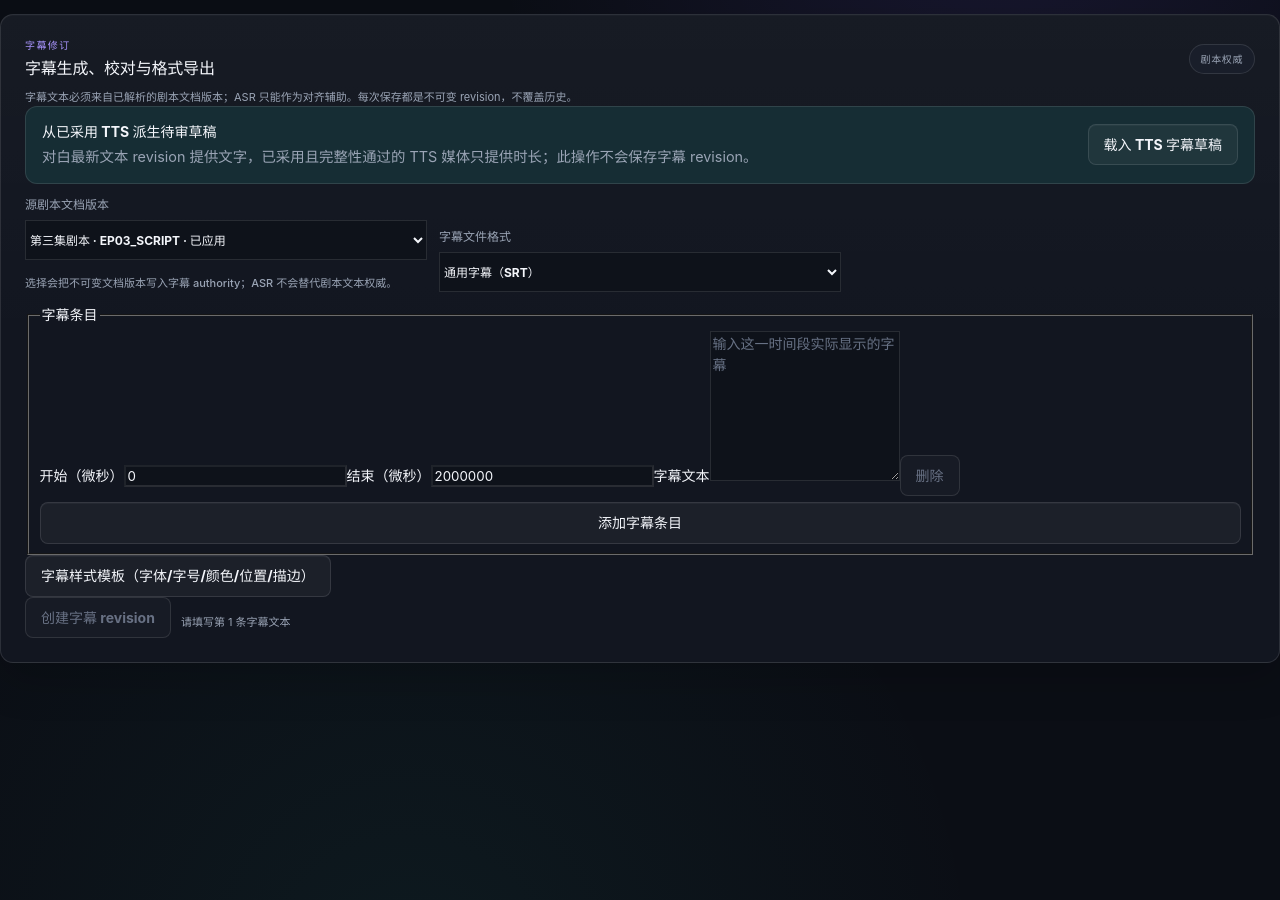
it: SubtitleRevisionPanel draft protection (FE-02) › blocks the shared save with a reason instead of leaving silently
The image size is (1280, 900).
In the text box named "字幕 1 文本": (804, 406) [710, 331, 900, 481], type "你好"
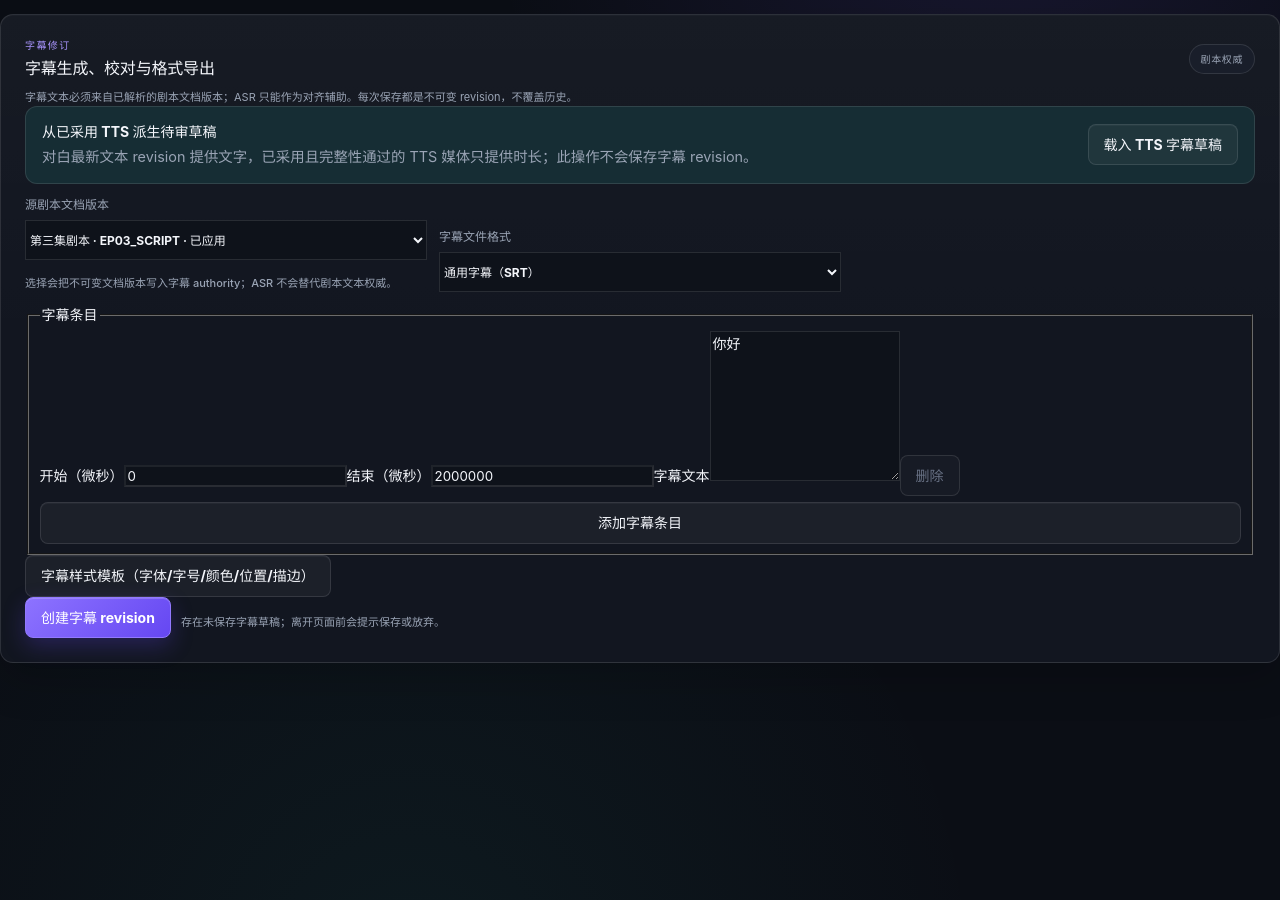
Replace the text in the number field named "字幕 1 结束（微秒）" with "0": (542, 476) [430, 465, 654, 487]
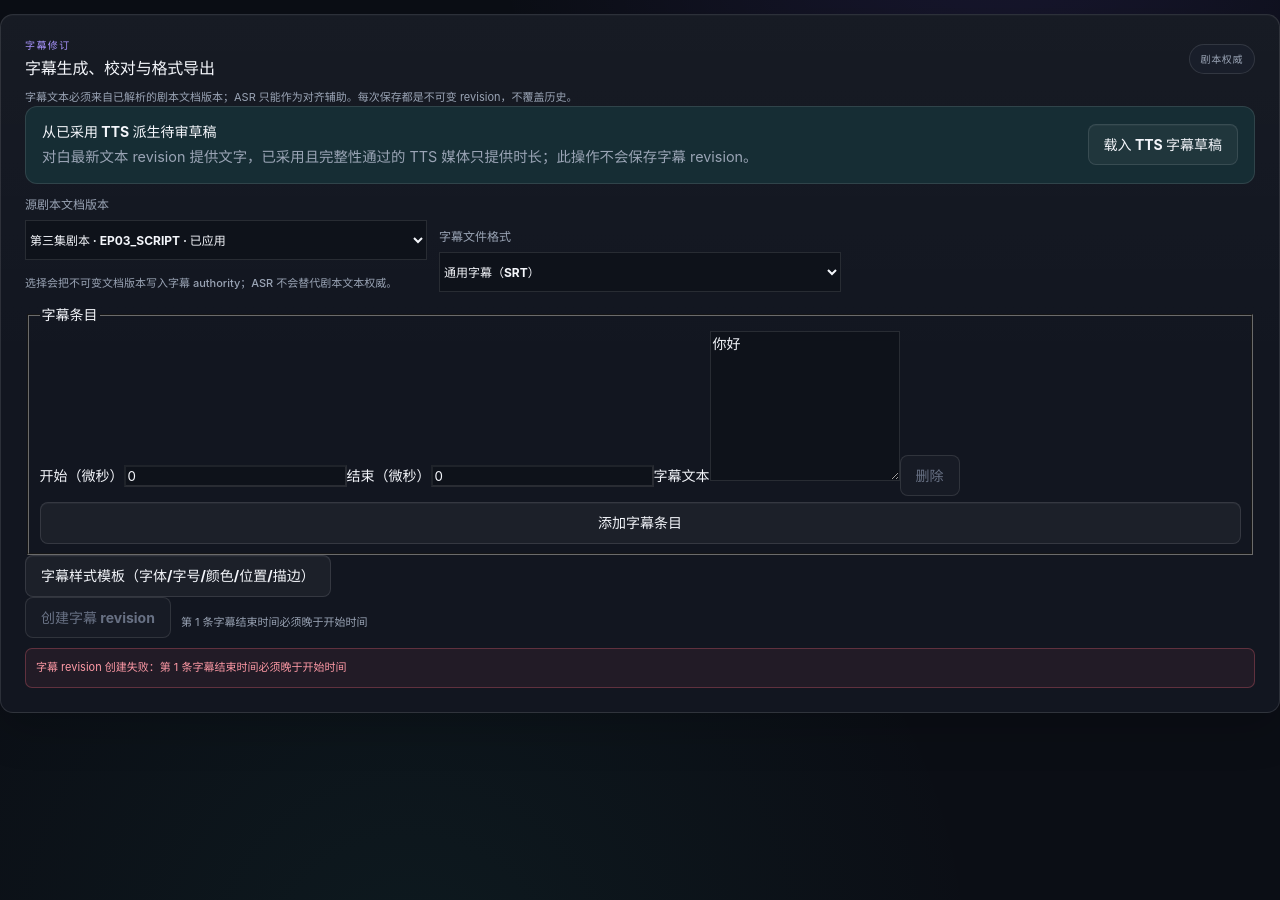
Check: the message shows "字幕 revision 创建失败", box [36, 660, 346, 674]
